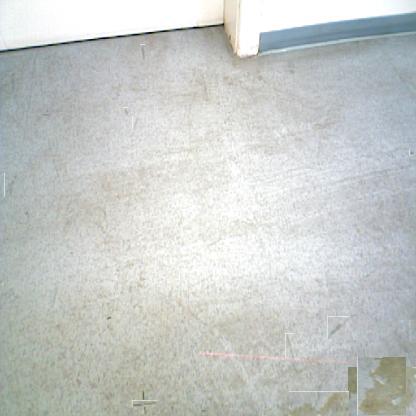liquid: (352, 362, 411, 416), (289, 391, 349, 416)
mark: (327, 316, 350, 339), (4, 173, 17, 197), (137, 396, 152, 412), (285, 333, 294, 358), (132, 116, 139, 132), (140, 44, 146, 61), (43, 110, 51, 118), (106, 313, 113, 321), (122, 107, 128, 116), (409, 148, 414, 156)
